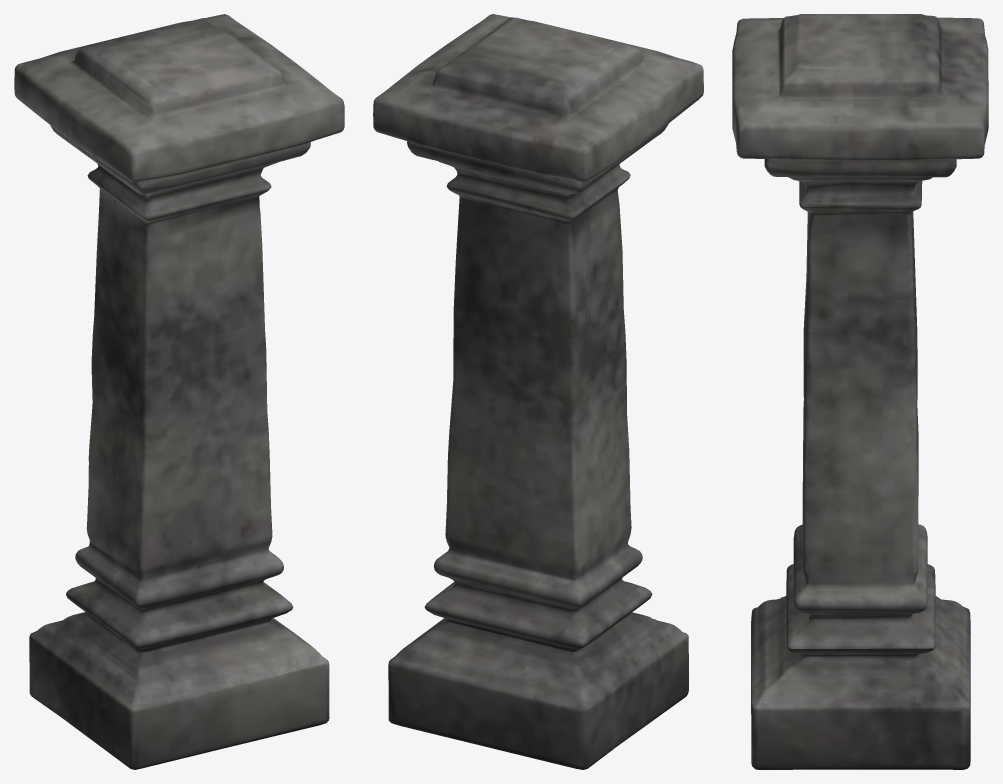
The model's file is weathered-granite-balustrade-v001.glb.
The picture shows the model from 3 angles, left to right: view 1: azimuth 30°, elevation 25°; view 2: azimuth 150°, elevation 25°; view 3: azimuth 270°, elevation 25°; orthographic projection. The views are drawn at different scales.
Visible parts, largest first — view 1: weathered-granite-balustrade; view 2: weathered-granite-balustrade; view 3: weathered-granite-balustrade.
Part boxes in pixels (x1=…): weathered-granite-balustrade: x1=14, y1=14, x2=344, y2=769; weathered-granite-balustrade: x1=373, y1=14, x2=703, y2=769; weathered-granite-balustrade: x1=732, y1=14, x2=988, y2=769.
Size of the model in its own units: 0.344 by 0.9897 by 0.3371.
1 material, 1 textured.
